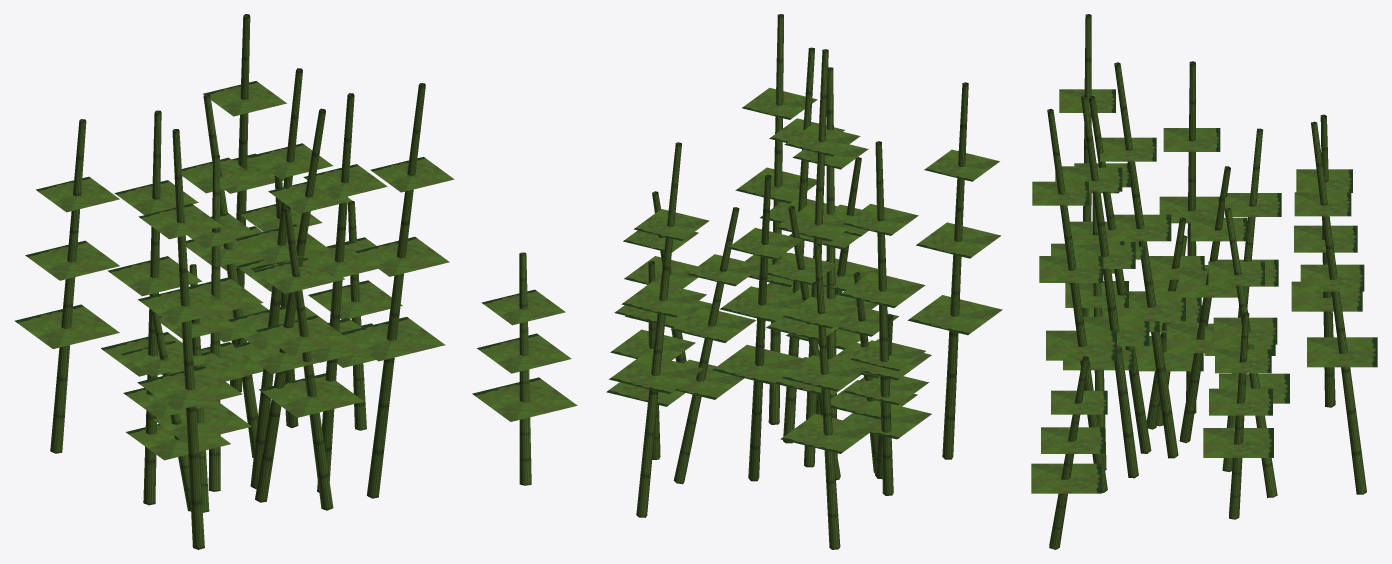
Rendered from ENV_PC_HorsetailClump.fbx.
3 renders of one model, left to right at view 1: azimuth 30°, elevation 25°; view 2: azimuth 150°, elevation 25°; view 3: azimuth 270°, elevation 25°, orthographic. The views are drawn at different scales.
Visible parts, largest first — view 1: ENV_PC_HorsetailClump_LOD0; view 2: ENV_PC_HorsetailClump_LOD0; view 3: ENV_PC_HorsetailClump_LOD0.
Boxes of the visible parts, box(x1,y1,x2,y2) form: ENV_PC_HorsetailClump_LOD0: box(14, 14, 577, 549); ENV_PC_HorsetailClump_LOD0: box(606, 14, 1002, 549); ENV_PC_HorsetailClump_LOD0: box(1031, 14, 1377, 549).
Size of what is drawn, in the model's own units: 1.56 by 1.66 by 1.3.
